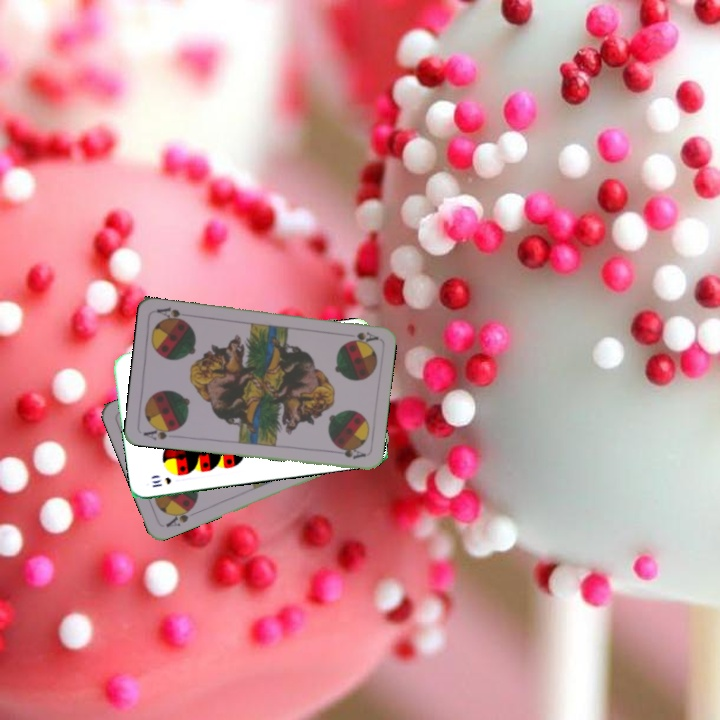S10: (148, 473, 174, 490)
SA: (162, 502, 197, 530), (139, 422, 180, 443), (346, 328, 380, 345)
